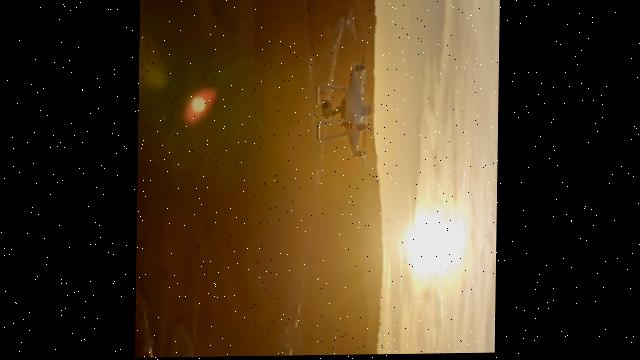drone: (314, 52, 375, 174)
